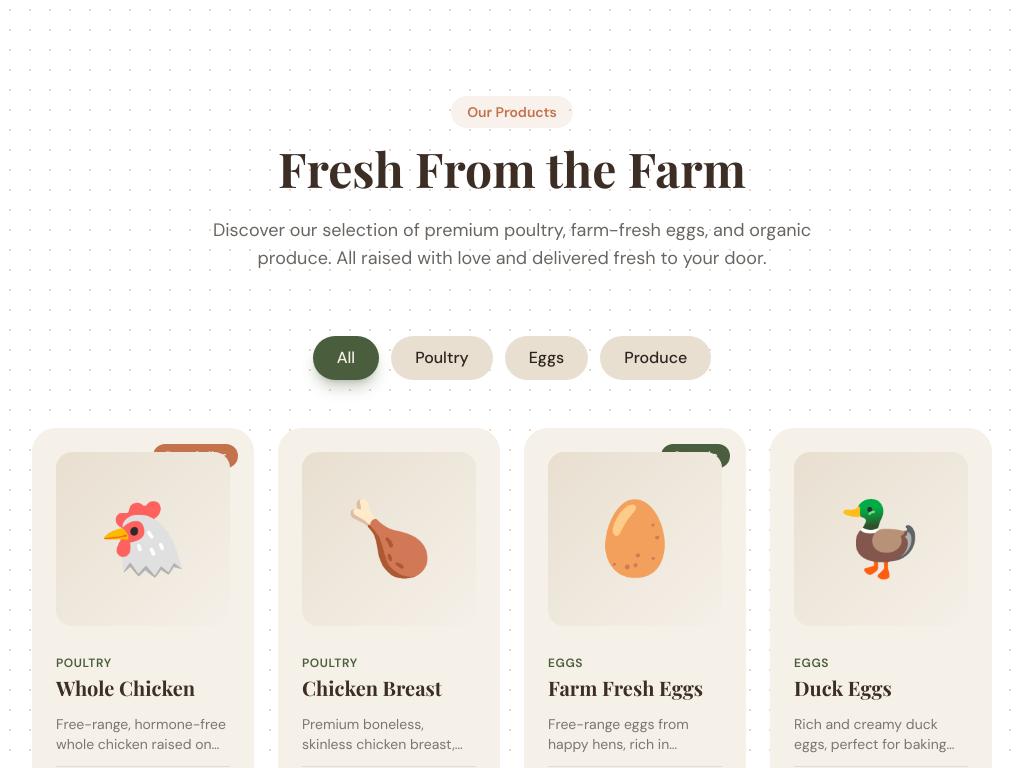
Test: Products › filters products when category is clicked
The width and height of the screenshot is (1024, 768).
Expected: the heading "Whole Chicken" is shown, [56,674,195,701]
# Click on Poultry filter
Step 1. Click the button "Poultry" → x=442, y=358, box [391,336,493,380]
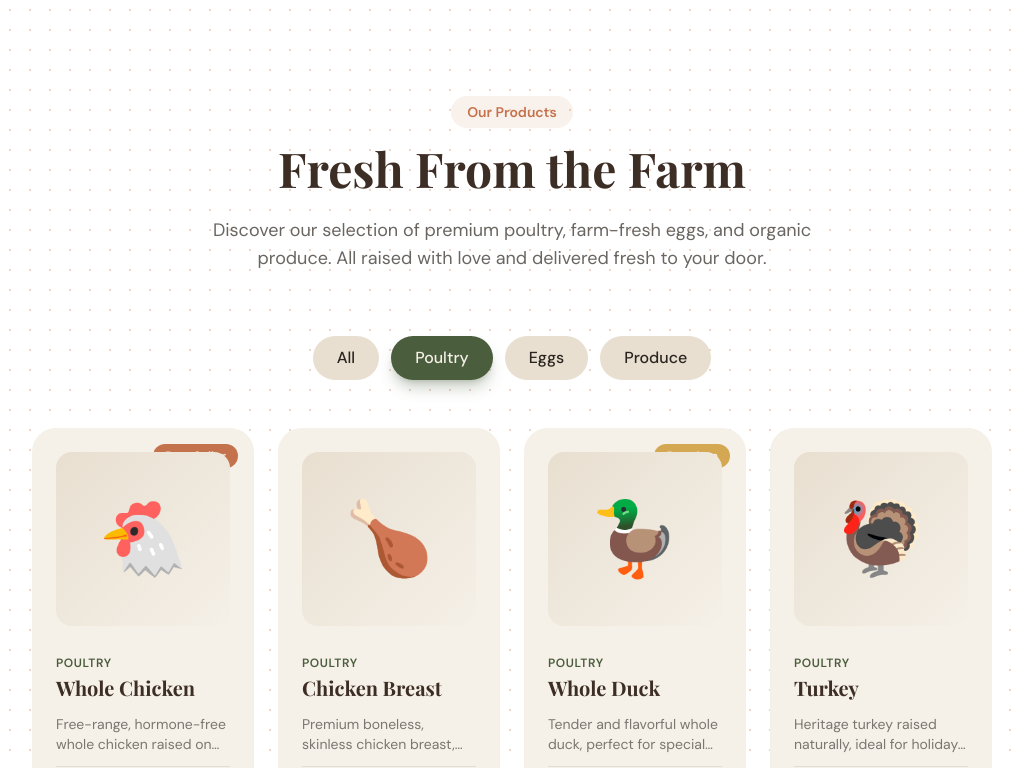
Expected: the heading "Whole Chicken" is shown, [56,674,195,701]
Result: the heading "Farm Fresh Eggs" is gone
